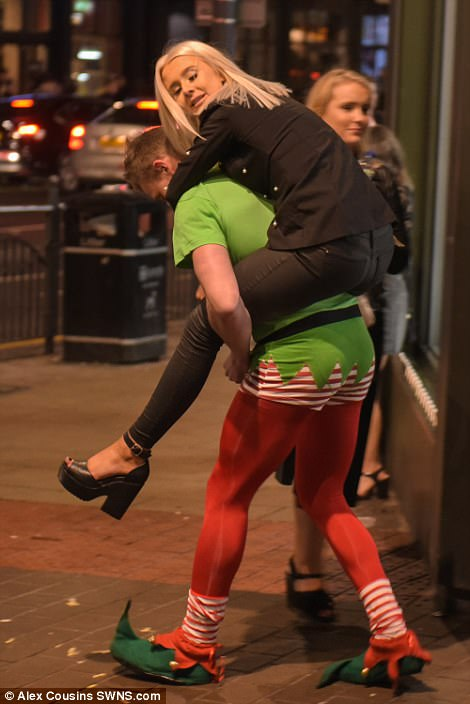Person: (102, 120, 441, 689), (53, 35, 398, 538), (304, 65, 389, 146)
